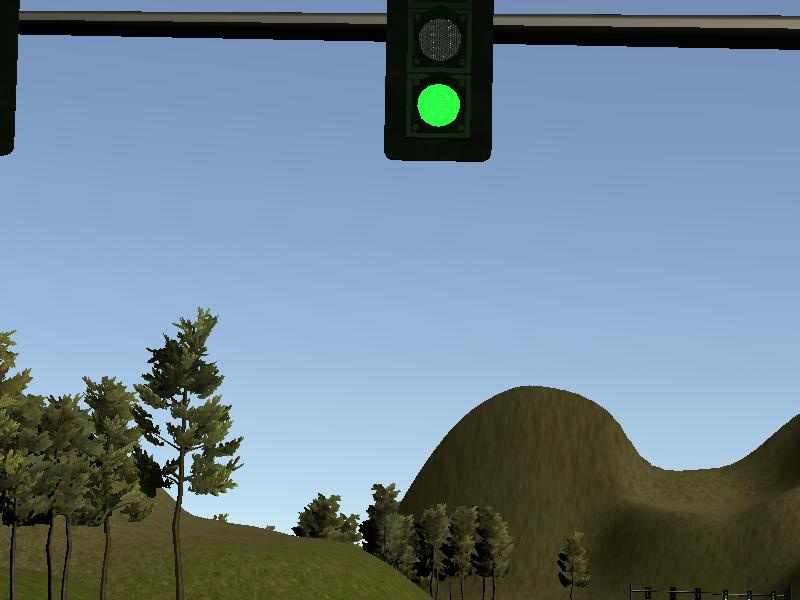green_light: (388, 2, 493, 160)
